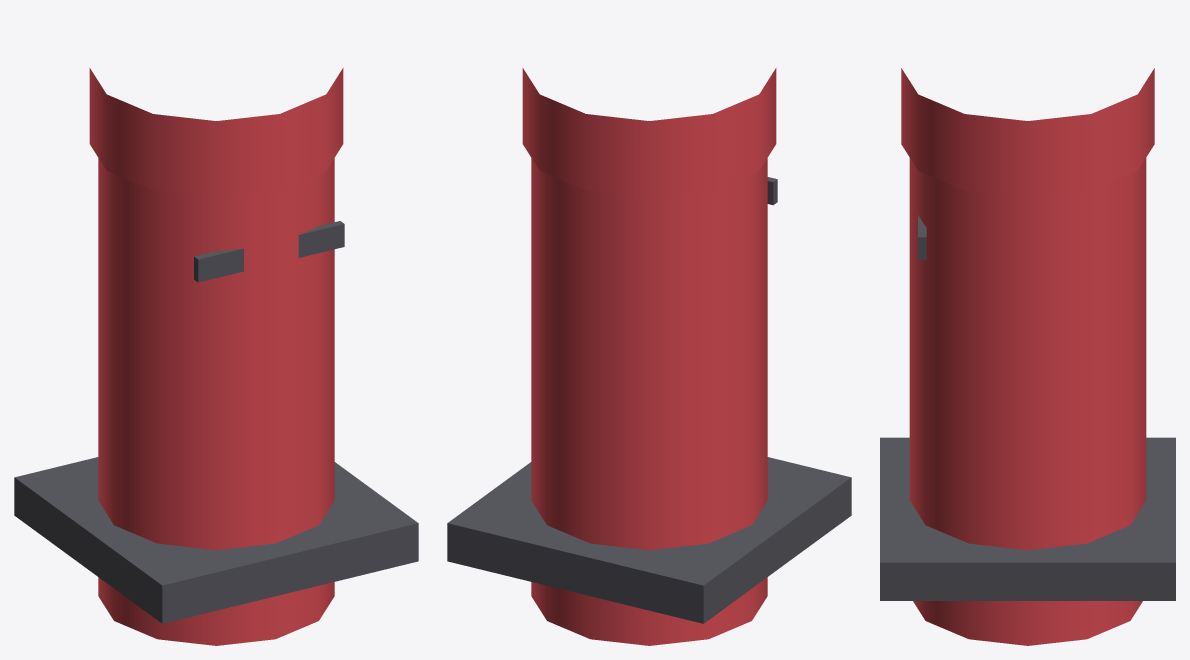
The model's file is japan_post_box.glb.
The picture shows the model from 3 angles, left to right: view 1: azimuth 30°, elevation 25°; view 2: azimuth 150°, elevation 25°; view 3: azimuth 270°, elevation 25°; orthographic projection.
Parts seen in each view (by area): view 1: japan_post_box; view 2: japan_post_box; view 3: japan_post_box.
Boxes of the visible parts, <box> form: japan_post_box: <box>14,68,418,645</box>; japan_post_box: <box>447,68,851,645</box>; japan_post_box: <box>880,68,1175,645</box>.
Size of the model in its own units: 0.7 by 1.38 by 0.7.
